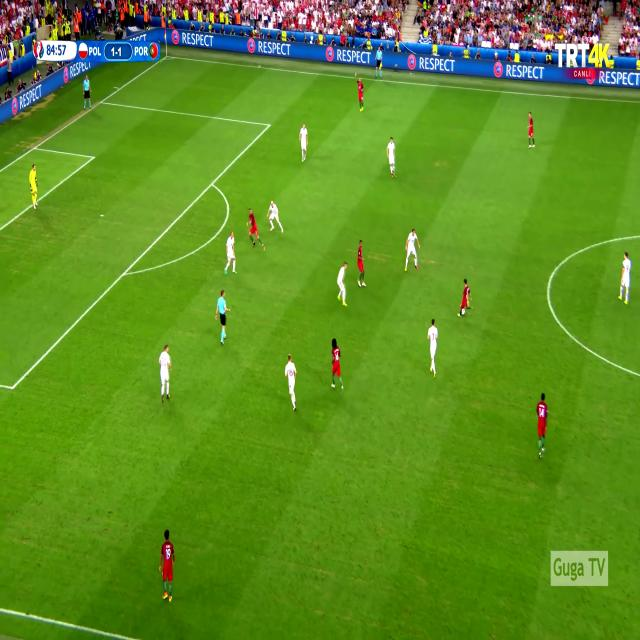Ball: (460, 308, 466, 316)
GoalKeeper: (29, 164, 41, 211)
TEAM 1: (159, 346, 173, 405), (426, 318, 439, 378), (284, 353, 297, 412), (404, 228, 421, 272), (619, 252, 632, 305), (336, 260, 350, 307), (224, 232, 238, 276), (267, 203, 284, 235), (388, 136, 398, 178), (299, 122, 308, 159)
TEAM 2: (159, 531, 175, 605), (538, 394, 551, 461), (330, 338, 344, 395), (356, 240, 368, 287), (246, 211, 260, 248), (459, 278, 472, 316), (526, 113, 535, 147), (358, 82, 366, 112)
